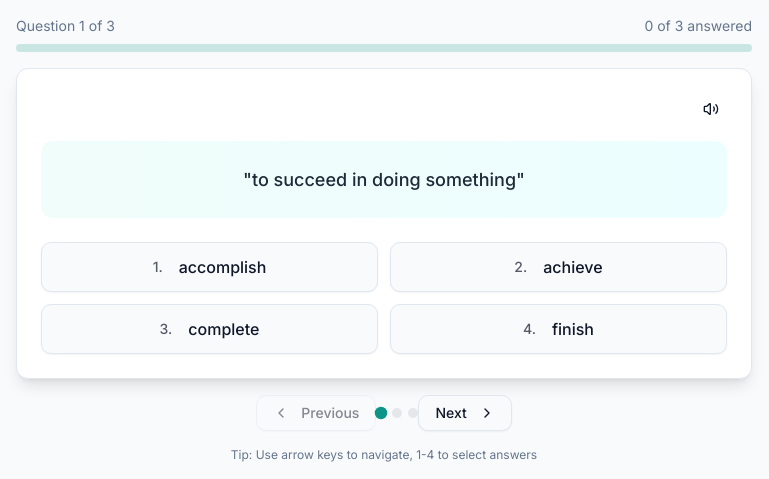
VocabularyQuizPlayer › progress indicator › updates answer count as answers are selected
The width and height of the screenshot is (769, 479).
Expected: the text "0 of 3 answered" is shown, [644, 16, 752, 36]
// Answer first question
Click the button "1. accomplish" at (210, 267), box [41, 242, 378, 292]
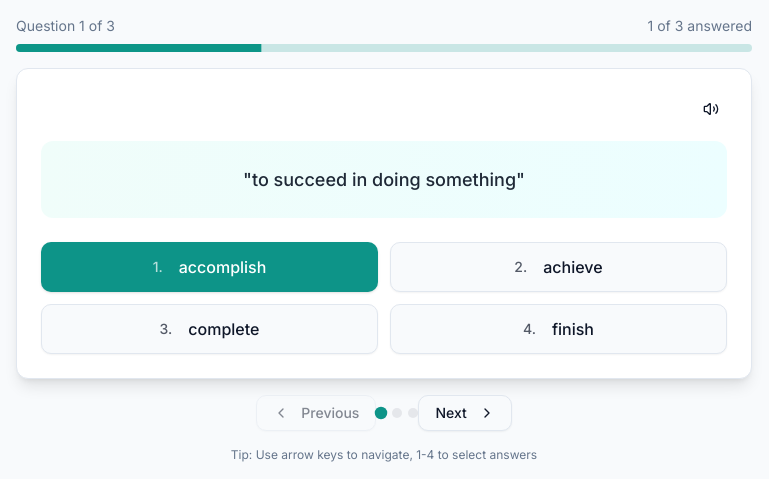
Now the text "1 of 3 answered" is shown, box [648, 16, 752, 36]
// Navigate and answer second question
Click the button "Next" at (465, 413), box [418, 395, 512, 431]
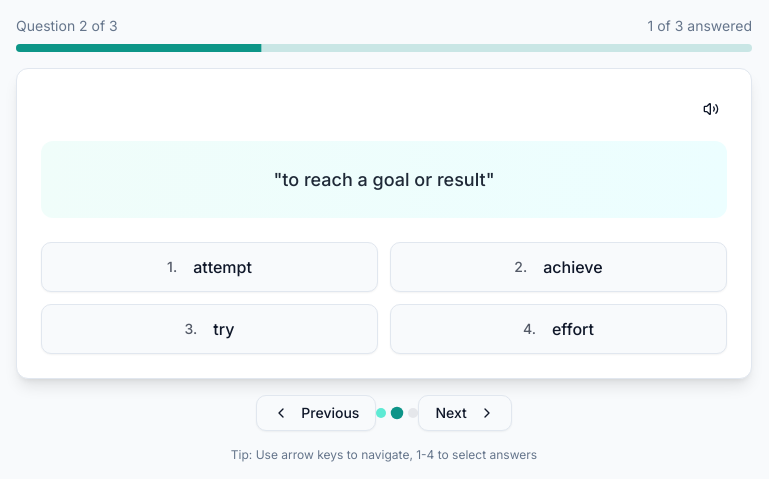
Click the button "2. achieve" at (558, 267), box [390, 242, 727, 292]
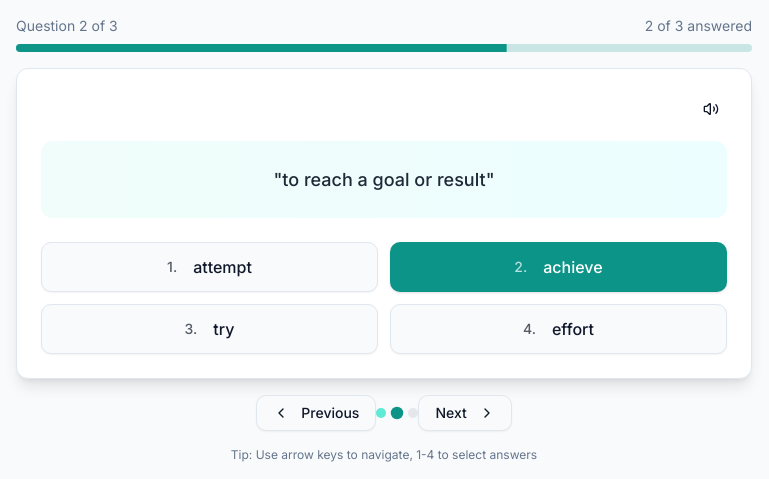
Now the text "2 of 3 answered" is shown, box [645, 16, 752, 36]
